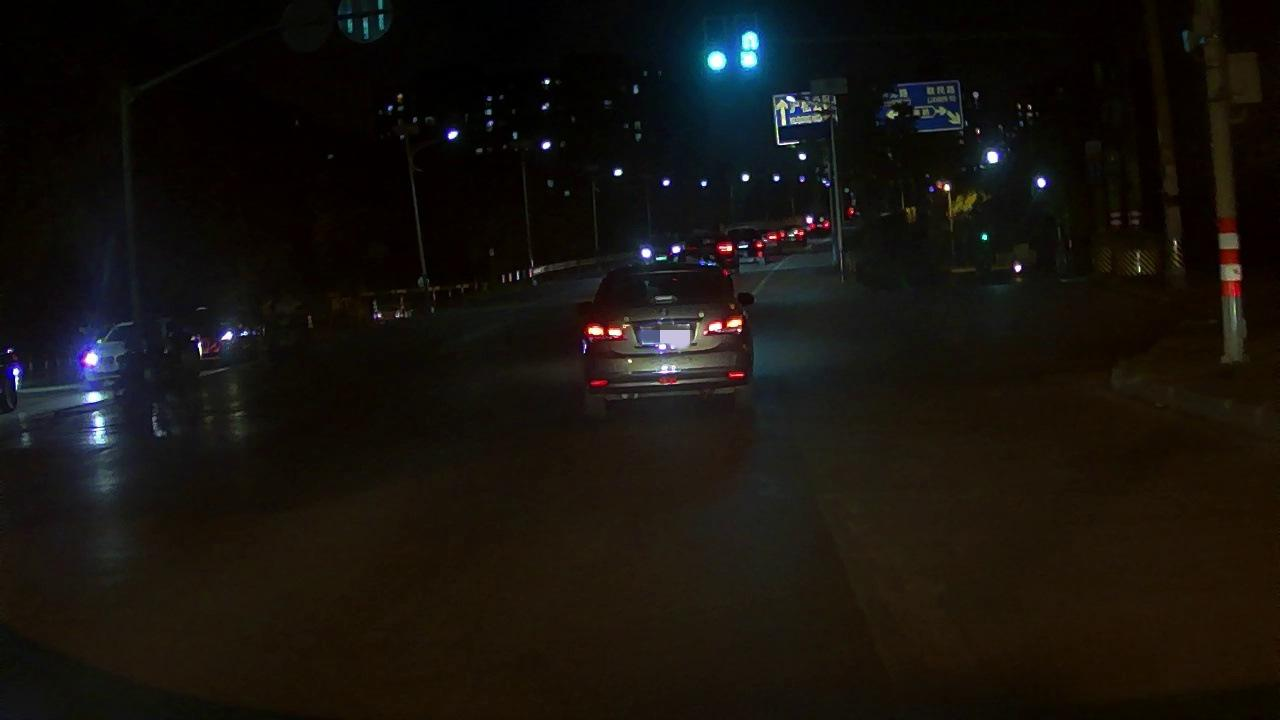traffic_light: (736, 18, 763, 76), (704, 20, 730, 73)
